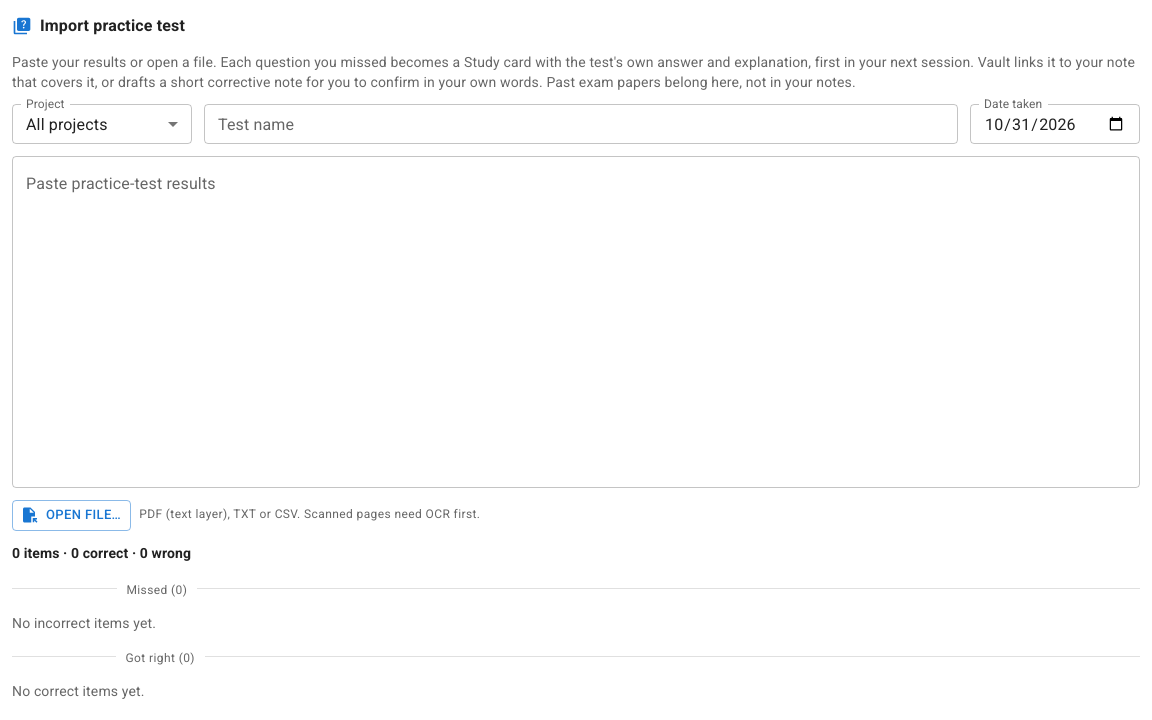
Test case: TestToNotesView › shows the key, options as text and the explanation for each item
This screenshot has width=1152, height=720.
Replace the text in the text box labelled "Paste practice-test results" with "Question 1 of 1 Incorrect". click: (576, 322)
box: x1=26 y1=172 x2=1126 y2=472
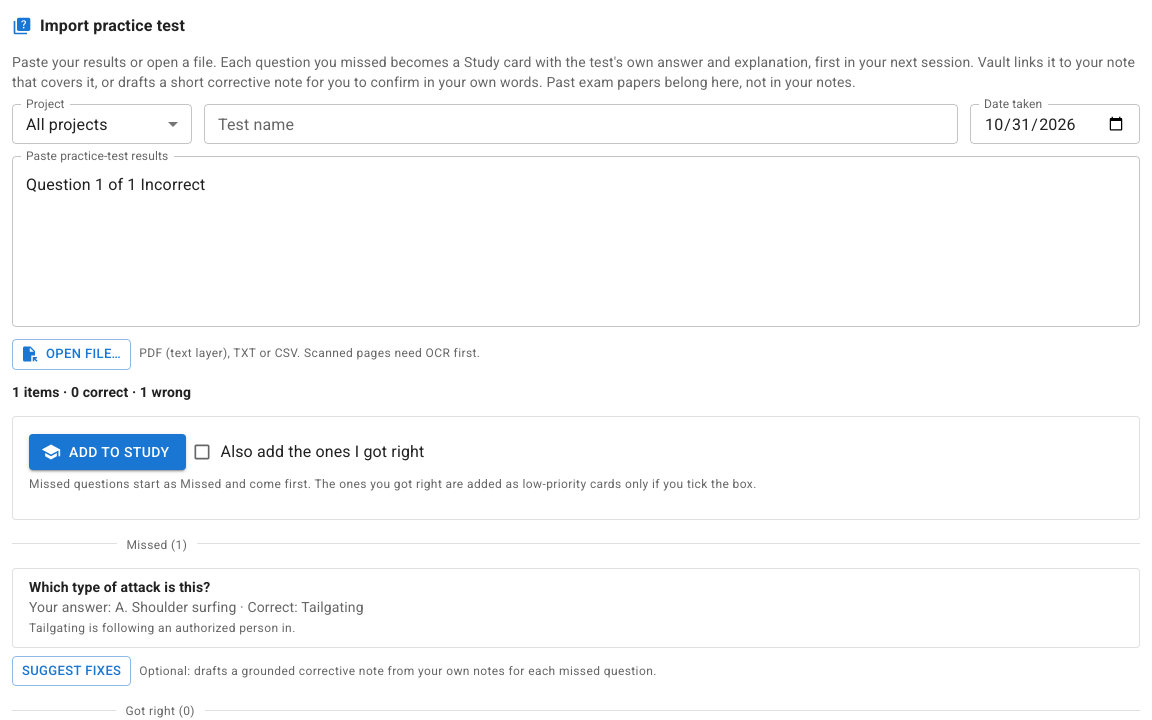
Result: the text "Your answer: A. Shoulder surfing · Correct: Tailgating" is shown at x1=29 y1=599 x2=364 y2=615
Result: the text "Tailgating is following an authorized person in." is shown at x1=29 y1=621 x2=296 y2=635
